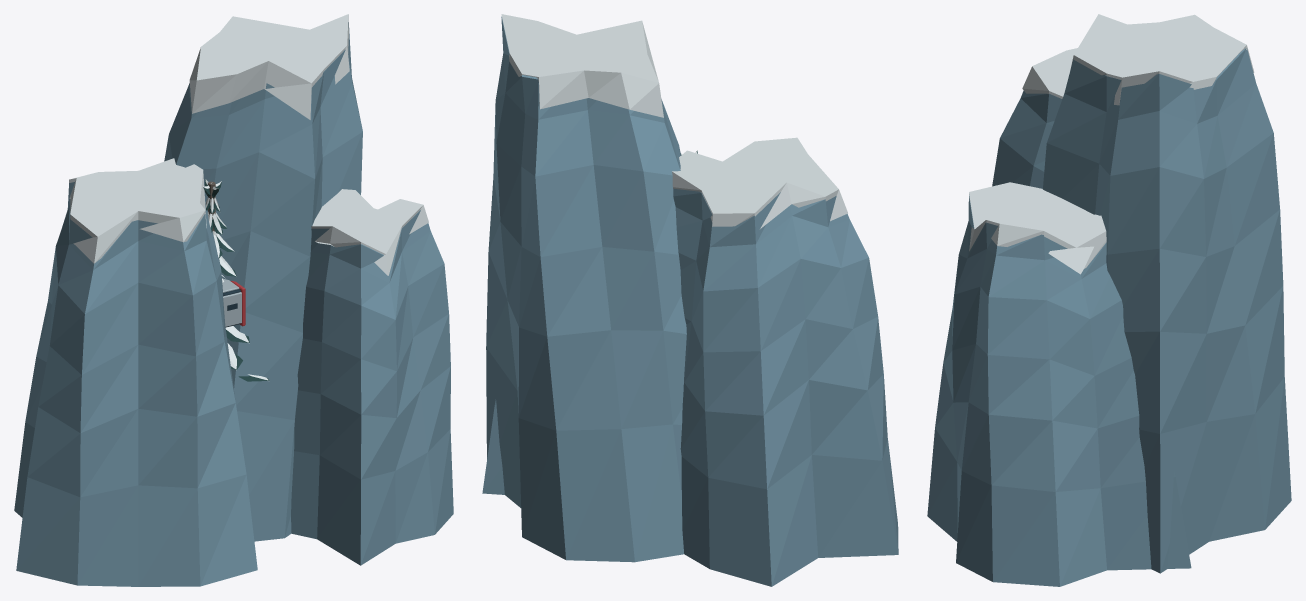
Rendered from kit-low-v1.glb.
3 renders of one model, left to right at view 1: azimuth 30°, elevation 25°; view 2: azimuth 150°, elevation 25°; view 3: azimuth 270°, elevation 25°, orthographic. The views are drawn at different scales.
Parts seen in each view (by area): view 1: glacier-ridge_ice, glacier-ridge_snow, snowy-pine_snow, snowy-pine_foliage, goal-buffer_ceramic; view 2: glacier-ridge_ice, glacier-ridge_snow; view 3: glacier-ridge_ice, glacier-ridge_snow.
Part boxes in pixels (bbox=[...]): glacier-ridge_ice: bbox=[14, 22, 453, 586]; glacier-ridge_snow: bbox=[69, 14, 428, 275]; snowy-pine_snow: bbox=[203, 179, 268, 380]; snowy-pine_foliage: bbox=[203, 179, 269, 381]; goal-buffer_ceramic: bbox=[222, 278, 241, 326]; glacier-ridge_ice: bbox=[482, 16, 898, 586]; glacier-ridge_snow: bbox=[501, 14, 847, 228]; glacier-ridge_ice: bbox=[927, 48, 1291, 586]; glacier-ridge_snow: bbox=[969, 14, 1254, 274].
Size of the model in its own units: 22 by 24 by 16.
